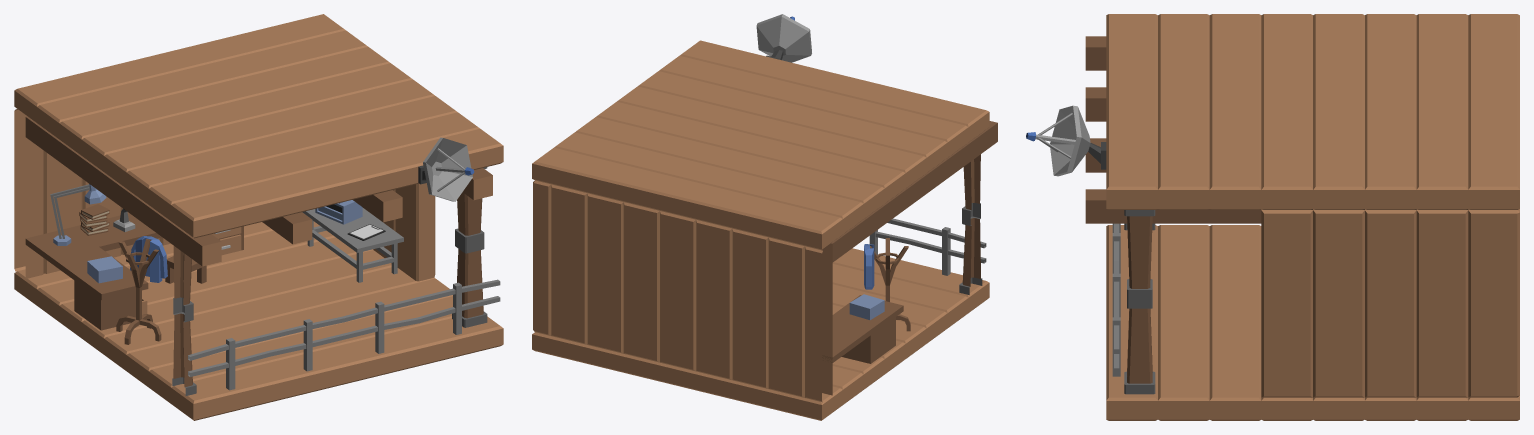
File: RadioStation_Lvl_01_Straight_Right.fbx
The picture shows the model from 3 angles, left to right: view 1: azimuth 30°, elevation 25°; view 2: azimuth 150°, elevation 25°; view 3: azimuth 270°, elevation 25°; orthographic projection. The views are drawn at different scales.
Parts seen in each view (by area): view 1: RadioStation_Lvl_01_Straight_Right; view 2: RadioStation_Lvl_01_Straight_Right; view 3: RadioStation_Lvl_01_Straight_Right.
Part boxes in pixels (x1,y1,x2,y2): RadioStation_Lvl_01_Straight_Right: [14, 14, 503, 420]; RadioStation_Lvl_01_Straight_Right: [532, 14, 997, 420]; RadioStation_Lvl_01_Straight_Right: [1026, 14, 1519, 420].
Bounding box in the file's own units: 8 × 5.85 × 9.55.
